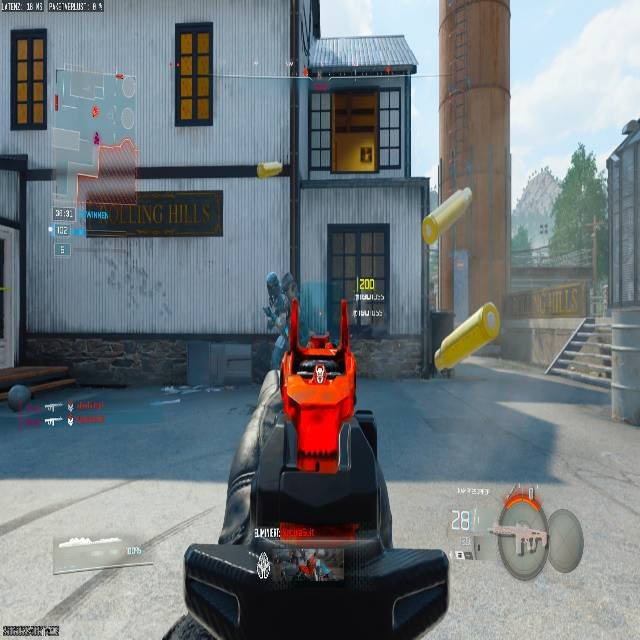head: (266, 272, 279, 293)
player: (263, 272, 289, 335)
